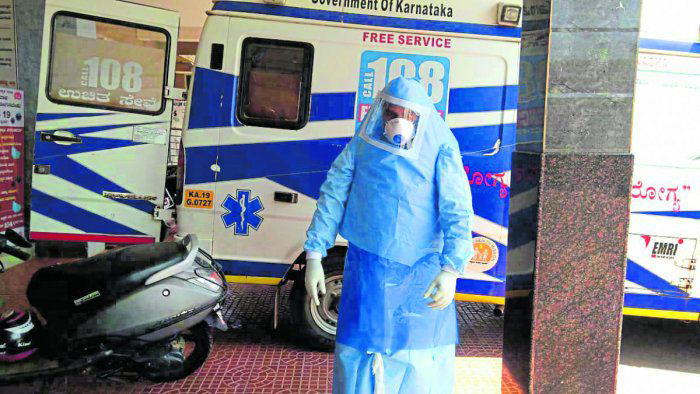Coverall: (309, 73, 474, 394)
Gloves: (424, 266, 457, 310), (303, 252, 330, 305)
with_mask: (381, 101, 421, 151)
